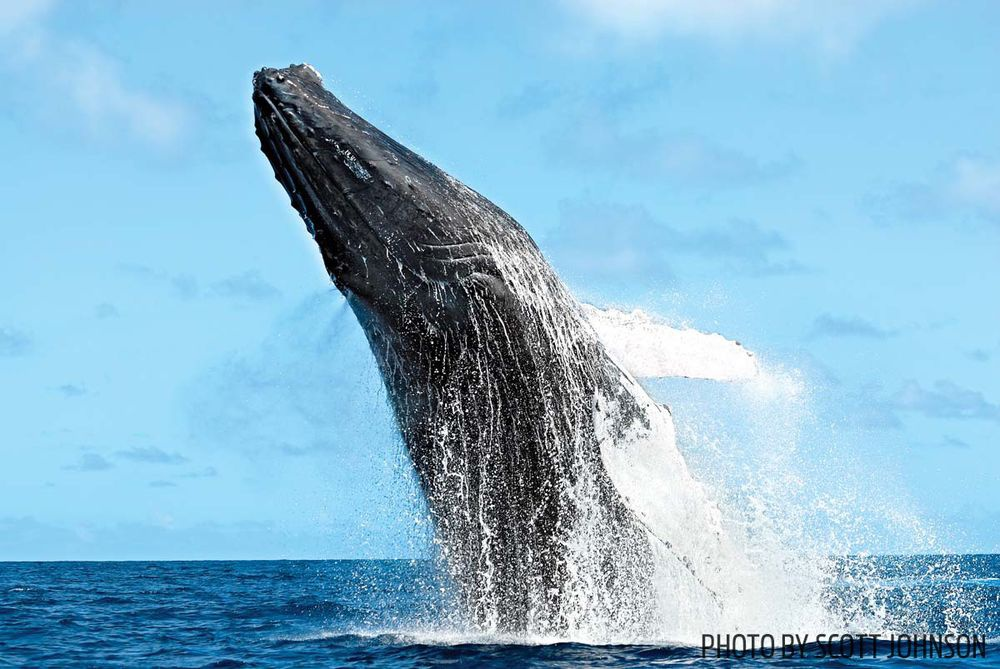humpback: (251, 63, 732, 622)
